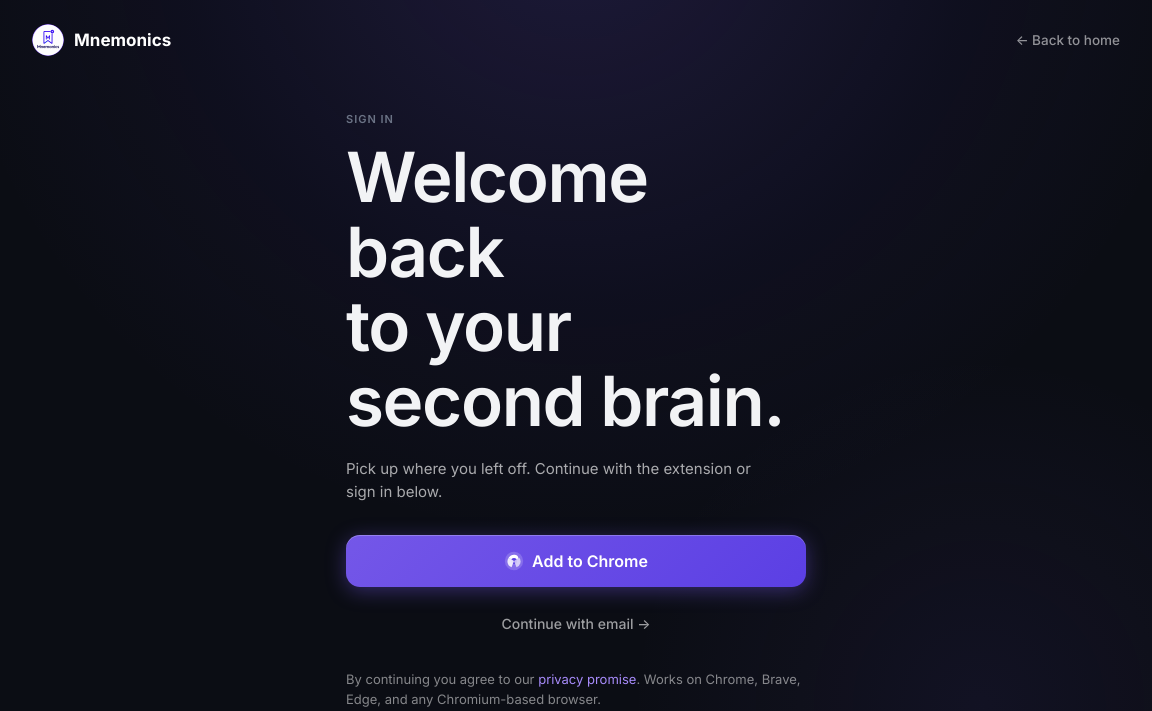
Test case: AuthLayout › flips to the email panel when "Continue with email" is clicked
Click the button "Continue with email →": (576, 624) top-left (346, 603), bottom-right (806, 645)
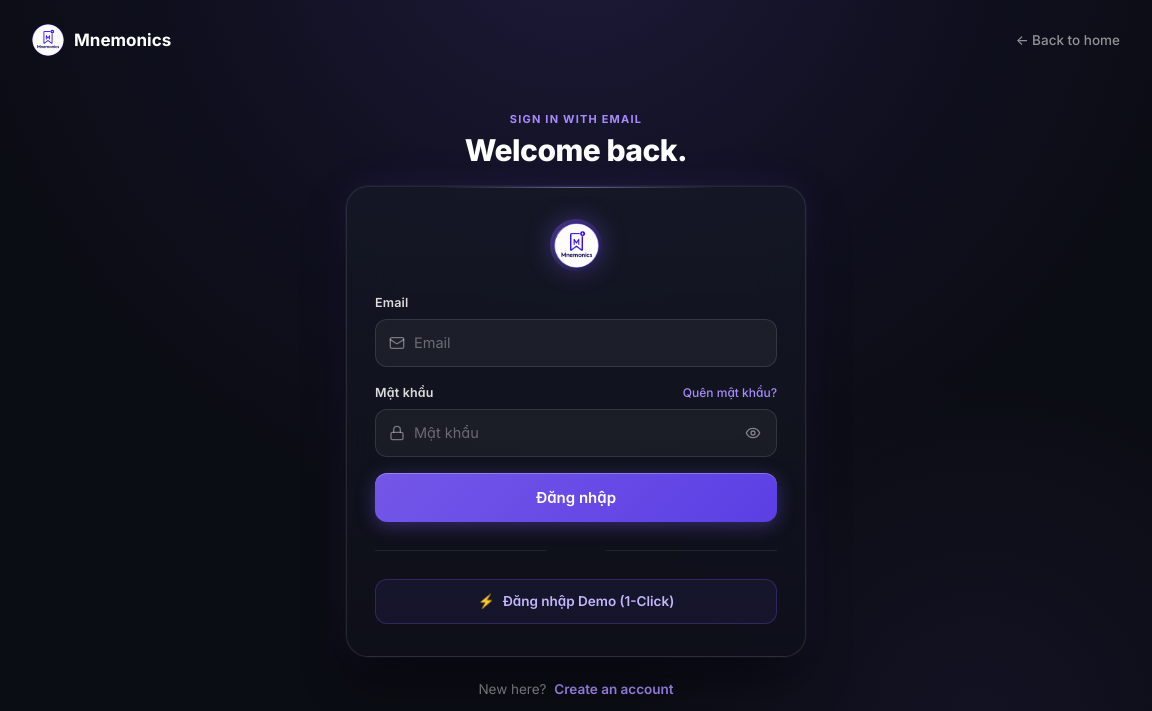
Check: the field with placeholder "Email" is shown, box top-left (375, 319), bottom-right (777, 367)
